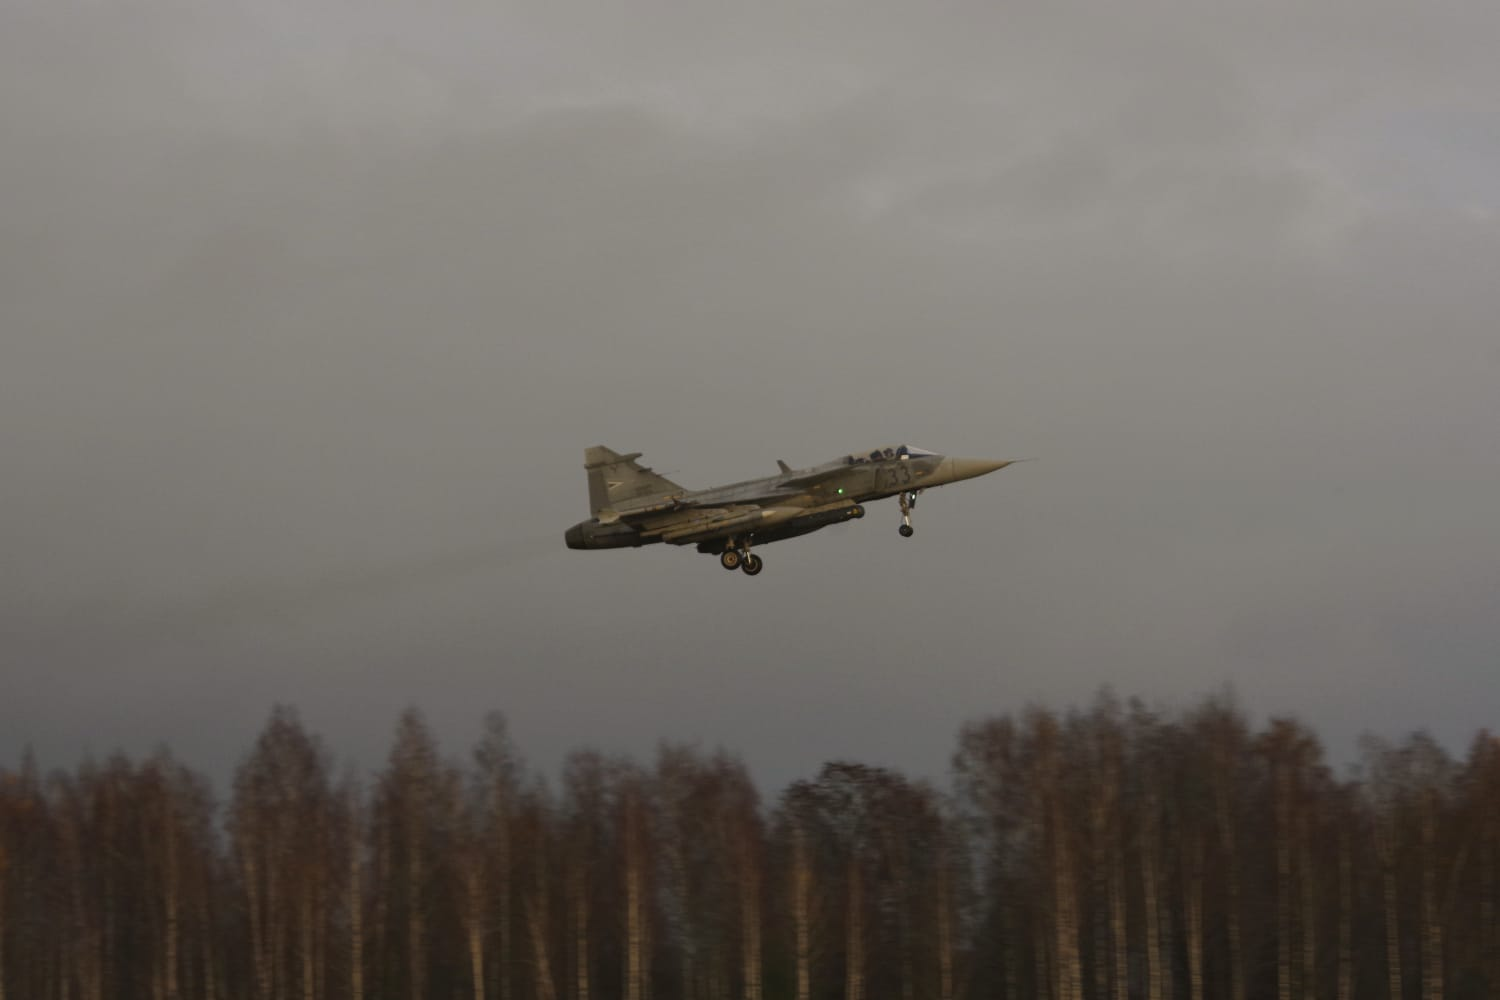JAS39: (564, 444, 1041, 576)
